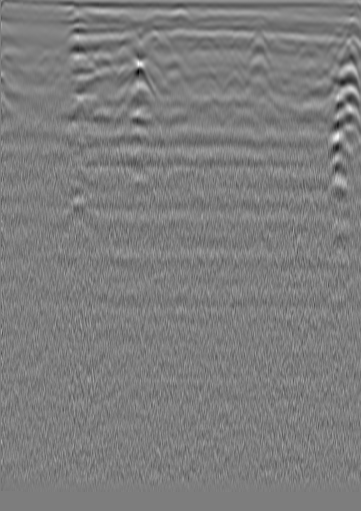가스: (120, 124, 150, 153)
상수: (300, 12, 320, 32)
오수: (27, 20, 47, 40)
우수: (172, 8, 192, 28)
